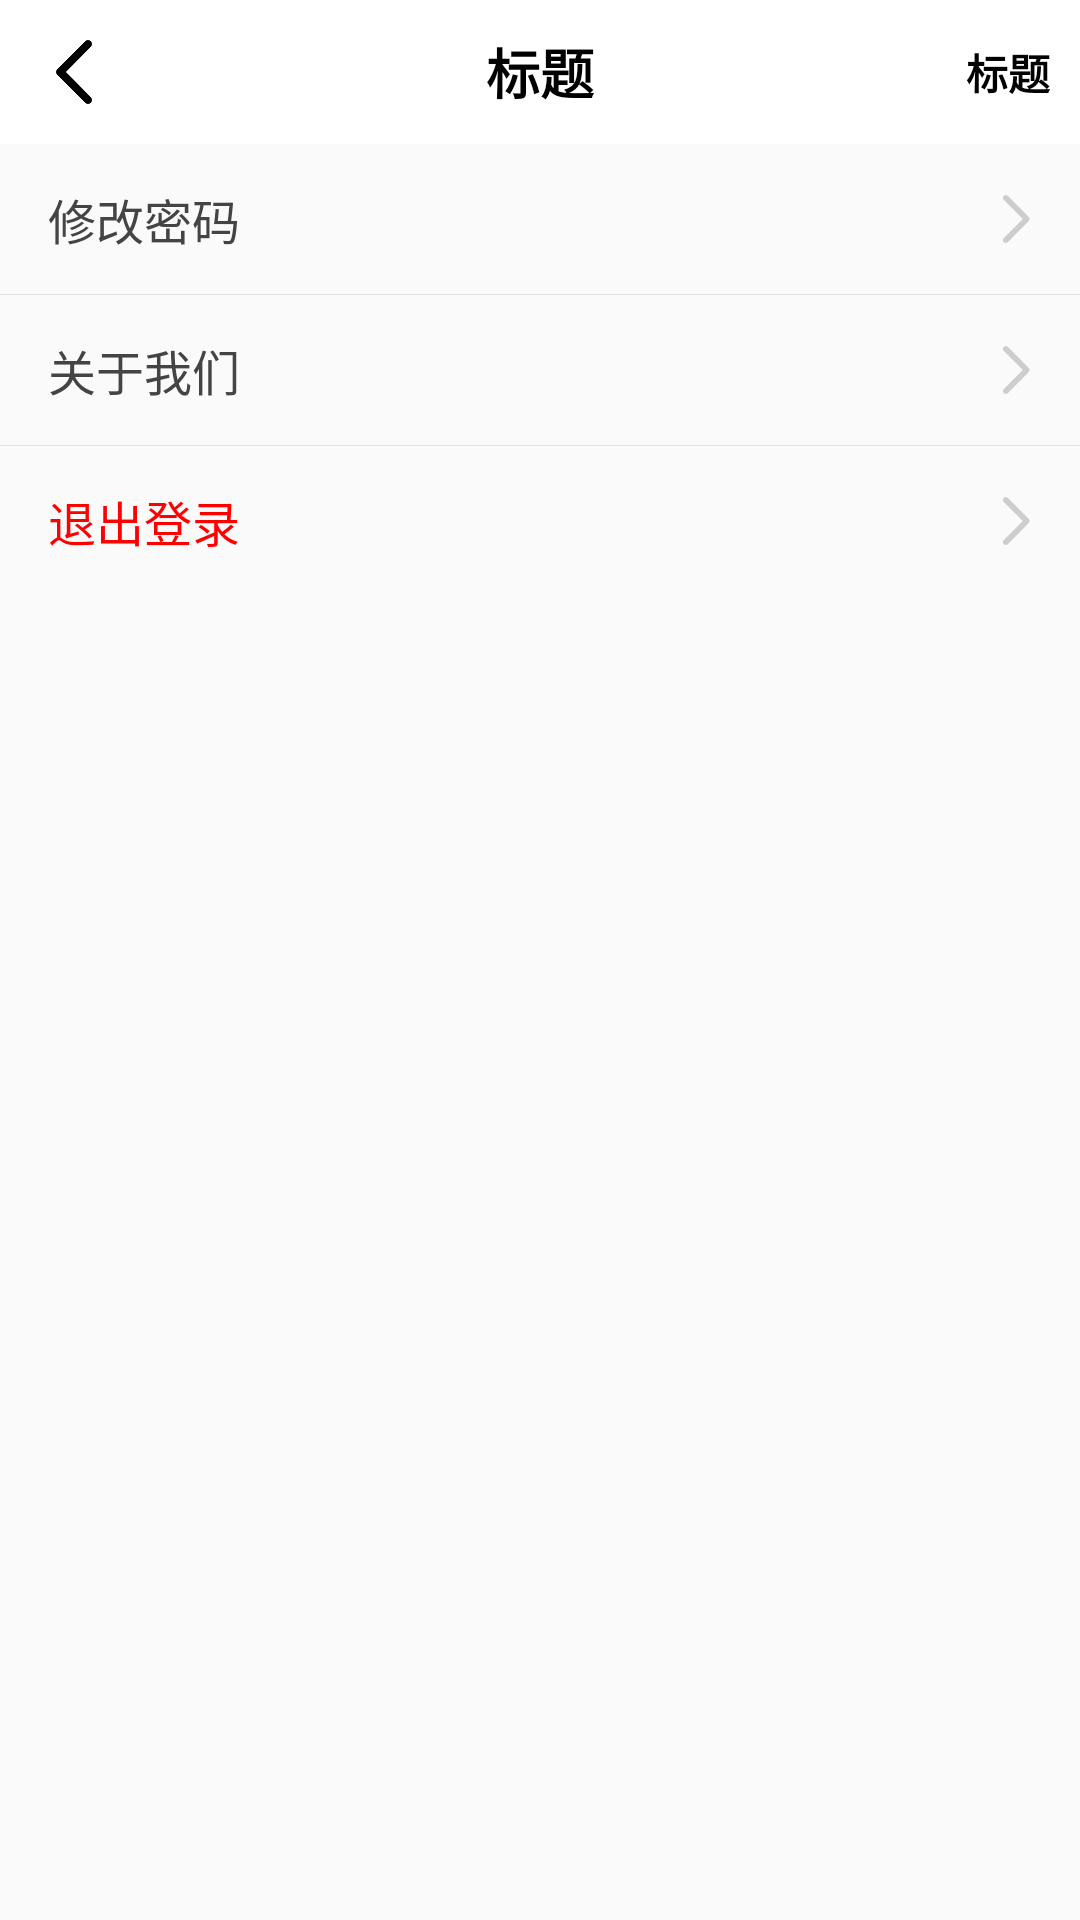

Icon click points for this 1080*1920 phone screenshot, format point (x, y):
back: point (74, 72)
right back: point (1016, 219), point (1016, 370), point (1016, 521)
